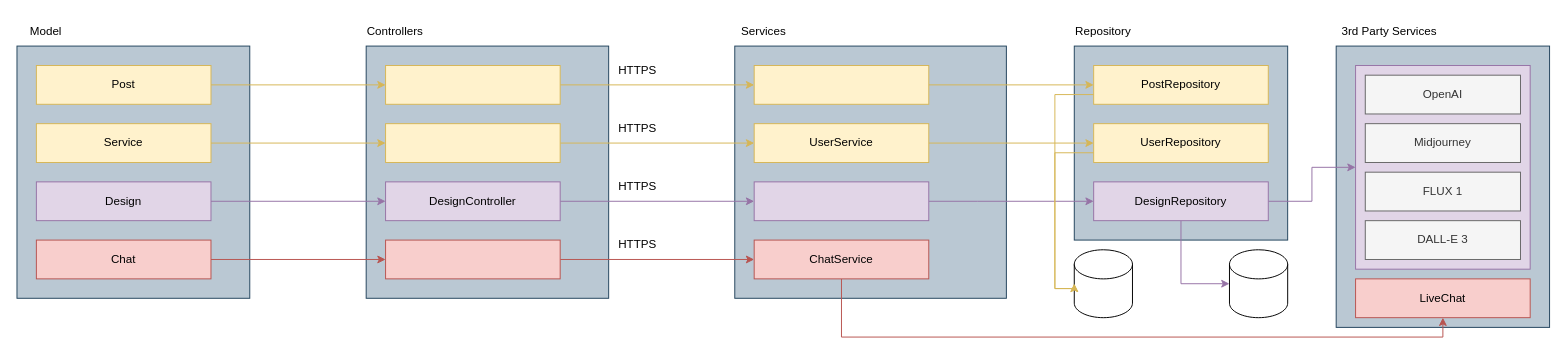
Some shapes in this 1567 by 362 pixel diagram are drawn without their labels. The shapes that lost their labels are listed below. From the top down, each one's centre as x and y in pixels, then its label:
At (x=472, y=84): "PostController".
At (x=841, y=84): "PostService".
At (x=472, y=142): "UserController".
At (x=841, y=201): "DesignService".
At (x=472, y=259): "ChatController".
At (x=1102, y=283): "Azure SQL".
At (x=1258, y=283): "CosmosDB".
